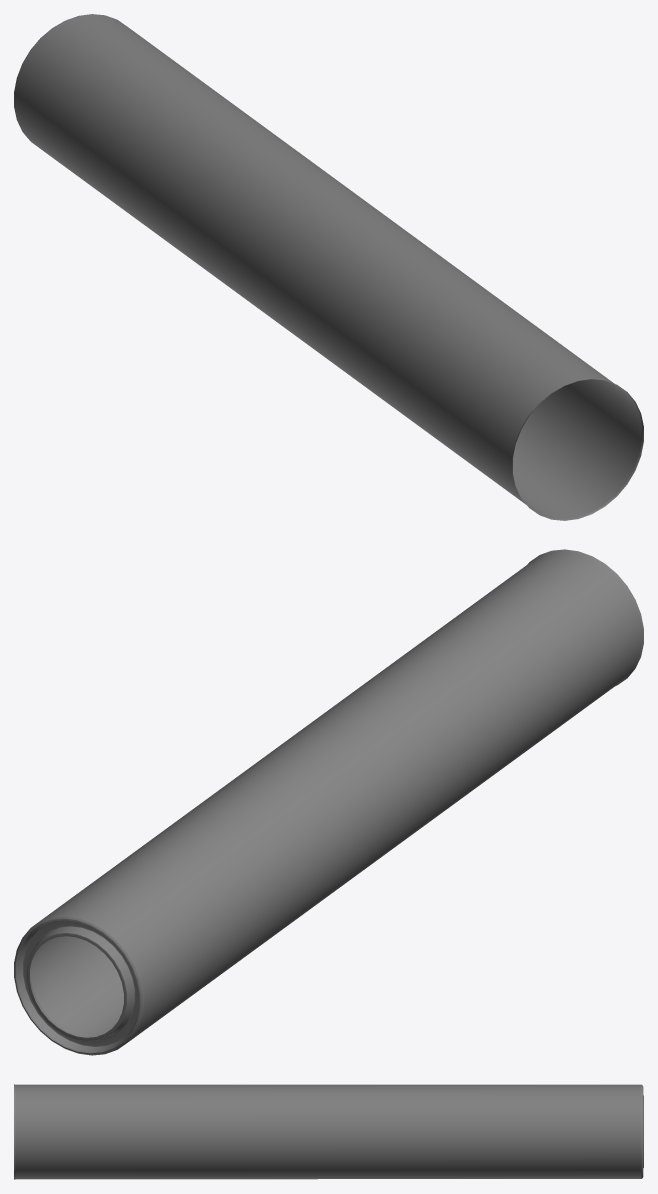
File: Waffe_Mid.obj
3 renders of one model, top to bottom at view 1: azimuth 30°, elevation 25°; view 2: azimuth 150°, elevation 25°; view 3: azimuth 270°, elevation 25°, orthographic. The views are drawn at different scales.
Parts seen in each view (by area): view 1: X_Waffe_Mid_t-65.029; view 2: X_Waffe_Mid_t-65.029; view 3: X_Waffe_Mid_t-65.029.
Part boxes in pixels (<box>): X_Waffe_Mid_t-65.029: <box>14,14,643,520</box>; X_Waffe_Mid_t-65.029: <box>14,549,643,1055</box>; X_Waffe_Mid_t-65.029: <box>14,1084,643,1179</box>.
Size of the model in its own units: 4.46 by 4.49 by 29.56.
1 material, 1 textured.
